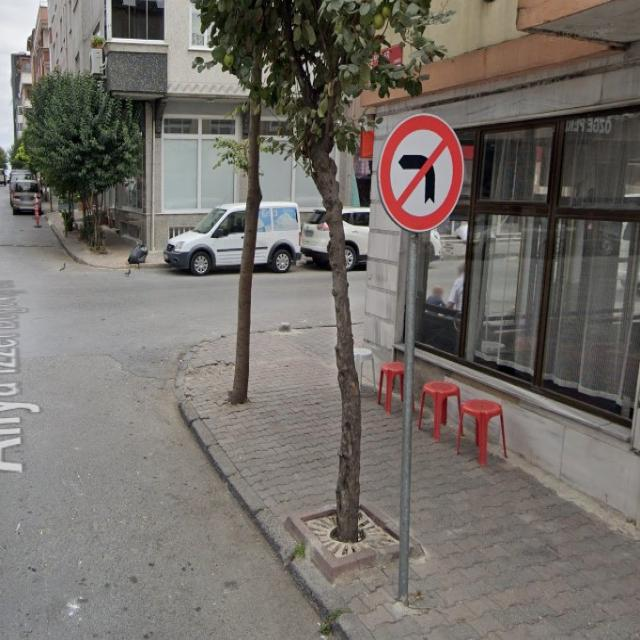soladonulmez: (378, 114, 464, 233)
